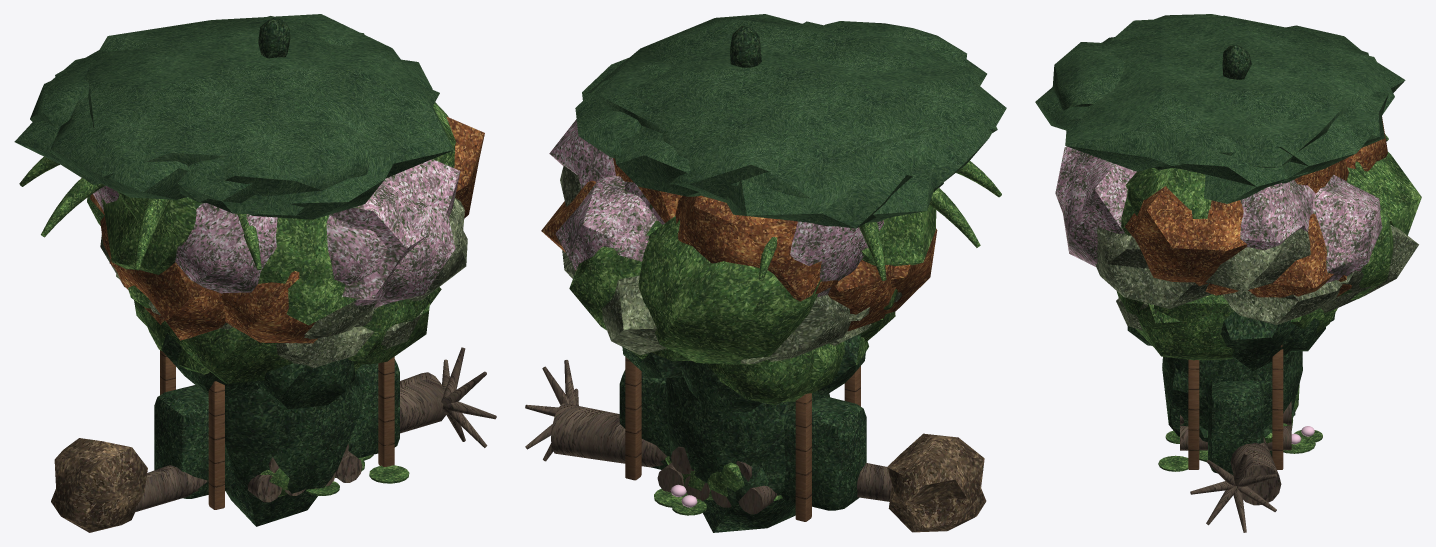
The model's file is Rosliny.glb.
The picture shows the model from 3 angles, left to right: view 1: azimuth 30°, elevation 25°; view 2: azimuth 150°, elevation 25°; view 3: azimuth 270°, elevation 25°; orthographic projection. The views are drawn at different scales.
Visible parts, largest first — view 1: sosna_parasolowa_2__pine_needles, sosna_parasolowa__pine_needles, drzewo_kwitnace__leaf_blossom, platan__leaf_lush, drzewo_jesienne__leaf_autumn, cyprys_2__leaf_dark, zywoplot__leaf_dark, powalone_drzewo__leaf_dead, drzewo_figowe__leaf_vine, powalone_drzewo__bark, granatowiec__leaf_dark, winorosl__wood (+7 smaller); view 2: sosna_parasolowa__pine_needles, sosna_parasolowa_2__pine_needles, platan__leaf_lush, drzewo_jesienne__leaf_autumn, drzewo_kwitnace__leaf_blossom, zywoplot__leaf_dark, powalone_drzewo__leaf_dead, cyprys__leaf_dark, powalone_drzewo__bark, drzewo_oliwne_3__leaf_olive, winorosl__wood, cyprys_2__leaf_dark (+8 smaller); view 3: sosna_parasolowa_2__pine_needles, sosna_parasolowa__pine_needles, drzewo_kwitnace__leaf_blossom, drzewo_jesienne__leaf_autumn, drzewo_oliwne_3__leaf_olive, platan__leaf_lush, drzewo_figowe__leaf_vine, cyprys__leaf_dark, zywoplot__leaf_dark, granatowiec__leaf_dark, powalone_drzewo__bark, winorosl__wood (+5 smaller).
Boxes of the visible parts, bbox=[...] form: sosna_parasolowa_2__pine_needles: bbox=[30, 14, 453, 215]; sosna_parasolowa__pine_needles: bbox=[14, 16, 439, 219]; drzewo_kwitnace__leaf_blossom: bbox=[93, 159, 460, 309]; platan__leaf_lush: bbox=[87, 102, 455, 325]; drzewo_jesienne__leaf_autumn: bbox=[90, 116, 484, 343]; cyprys_2__leaf_dark: bbox=[225, 373, 359, 526]; zywoplot__leaf_dark: bbox=[154, 359, 399, 498]; powalone_drzewo__leaf_dead: bbox=[51, 438, 147, 532]; drzewo_figowe__leaf_vine: bbox=[134, 287, 441, 384]; powalone_drzewo__bark: bbox=[132, 347, 496, 512]; granatowiec__leaf_dark: bbox=[161, 333, 355, 409]; winorosl__wood: bbox=[160, 350, 394, 509]; sosna_parasolowa__pine_needles: bbox=[575, 21, 1006, 226]; sosna_parasolowa_2__pine_needles: bbox=[582, 14, 986, 228]; platan__leaf_lush: bbox=[569, 205, 936, 365]; drzewo_jesienne__leaf_autumn: bbox=[541, 158, 937, 331]; drzewo_kwitnace__leaf_blossom: bbox=[549, 119, 883, 296]; zywoplot__leaf_dark: bbox=[619, 370, 866, 510]; powalone_drzewo__leaf_dead: bbox=[887, 433, 986, 532]; cyprys__leaf_dark: bbox=[665, 26, 788, 475]; powalone_drzewo__bark: bbox=[525, 360, 891, 501]; drzewo_oliwne_3__leaf_olive: bbox=[560, 165, 902, 364]; winorosl__wood: bbox=[625, 357, 860, 521]; cyprys_2__leaf_dark: bbox=[670, 377, 829, 532]; sosna_parasolowa_2__pine_needles: bbox=[1052, 25, 1405, 203]; sosna_parasolowa__pine_needles: bbox=[1035, 14, 1373, 182]; drzewo_kwitnace__leaf_blossom: bbox=[1055, 146, 1382, 283]; drzewo_jesienne__leaf_autumn: bbox=[1124, 117, 1387, 297]; drzewo_oliwne_3__leaf_olive: bbox=[1095, 225, 1418, 312]; platan__leaf_lush: bbox=[1121, 152, 1421, 300]; drzewo_figowe__leaf_vine: bbox=[1116, 291, 1234, 360]; cyprys__leaf_dark: bbox=[1163, 44, 1302, 475]; zywoplot__leaf_dark: bbox=[1208, 380, 1263, 474]; granatowiec__leaf_dark: bbox=[1127, 311, 1335, 371]; powalone_drzewo__bark: bbox=[1190, 437, 1281, 532]; winorosl__wood: bbox=[1188, 345, 1283, 469].
Bounding box in the file's own units: 15.21 × 16.76 × 13.83.
37 materials, 16 textured.
